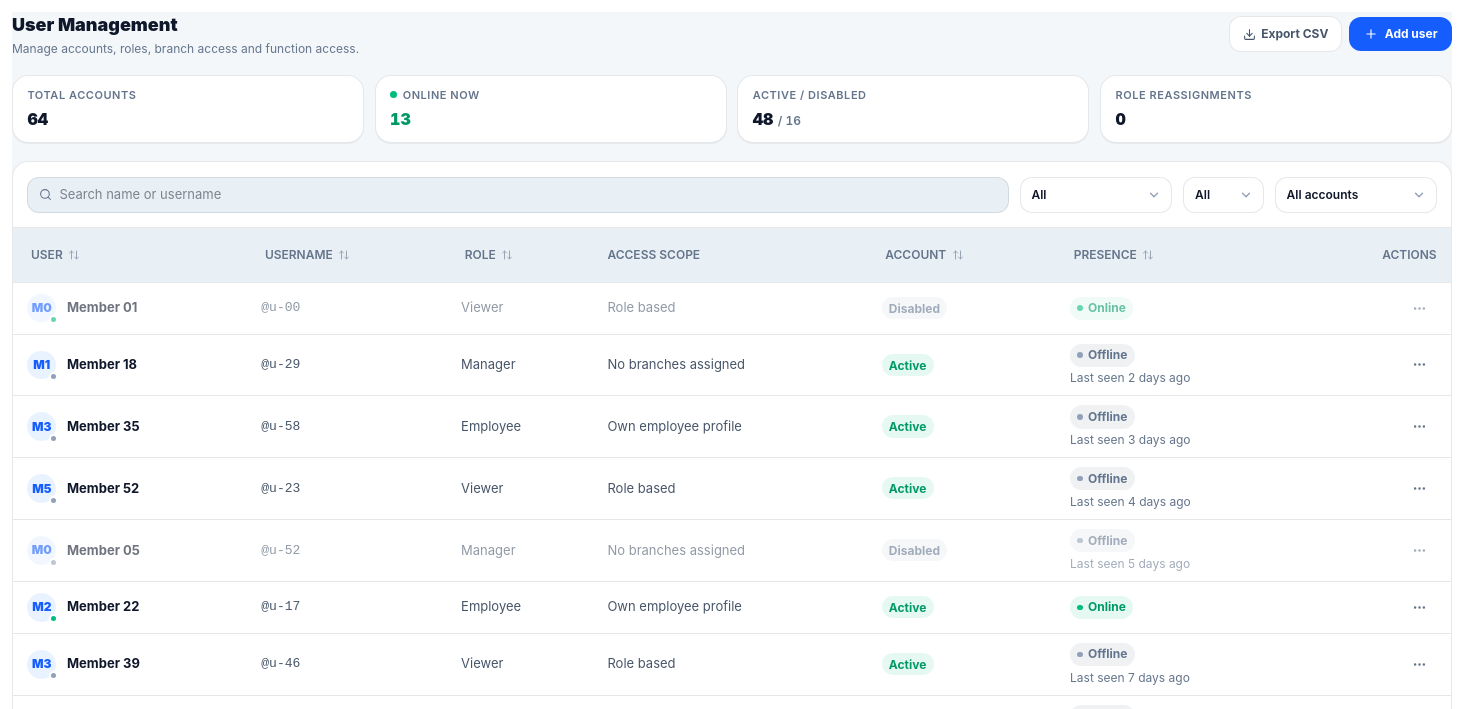
Test: Users sorting › sorts Presence so online users come first when descending
Click the button "Presence": (1114, 255) x1=1070 y1=239 x2=1158 y2=271
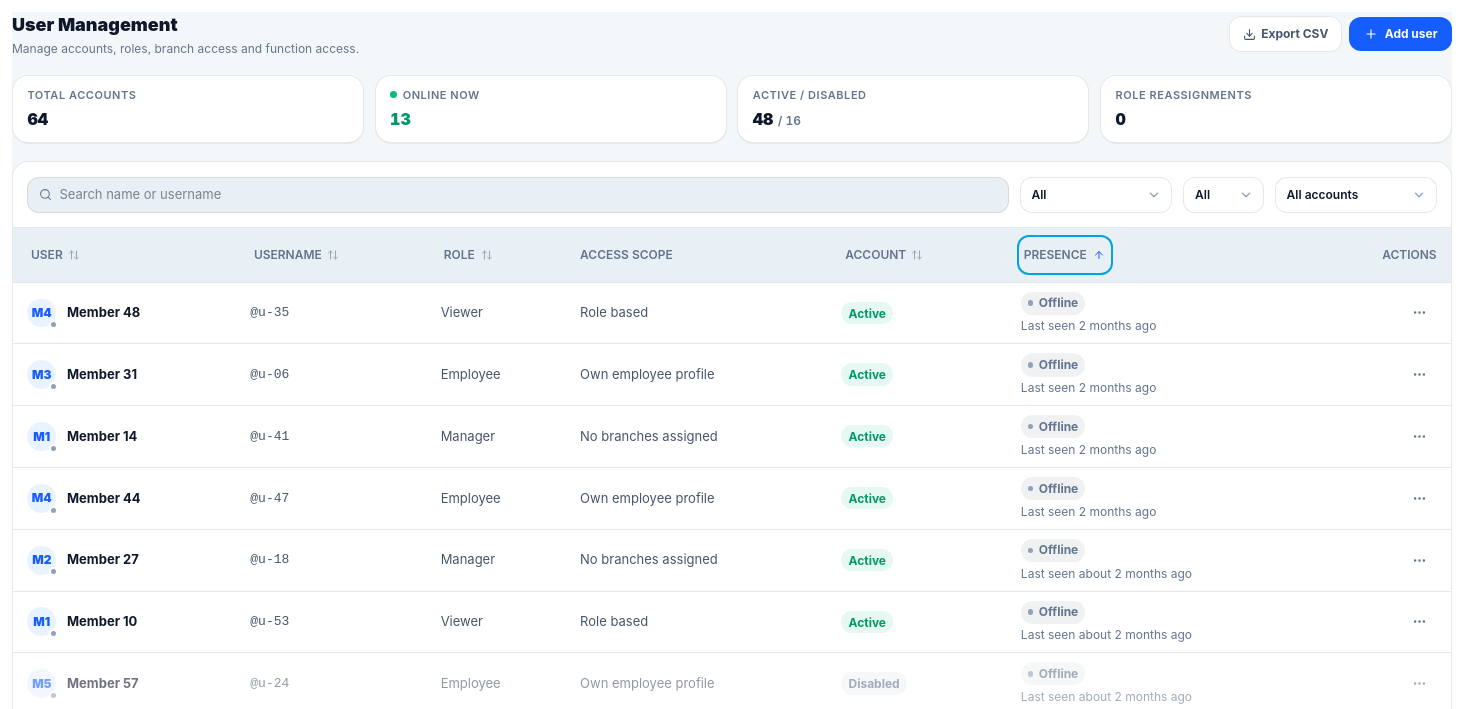
Click the button "Presence": (1065, 255) x1=1021 y1=239 x2=1109 y2=271
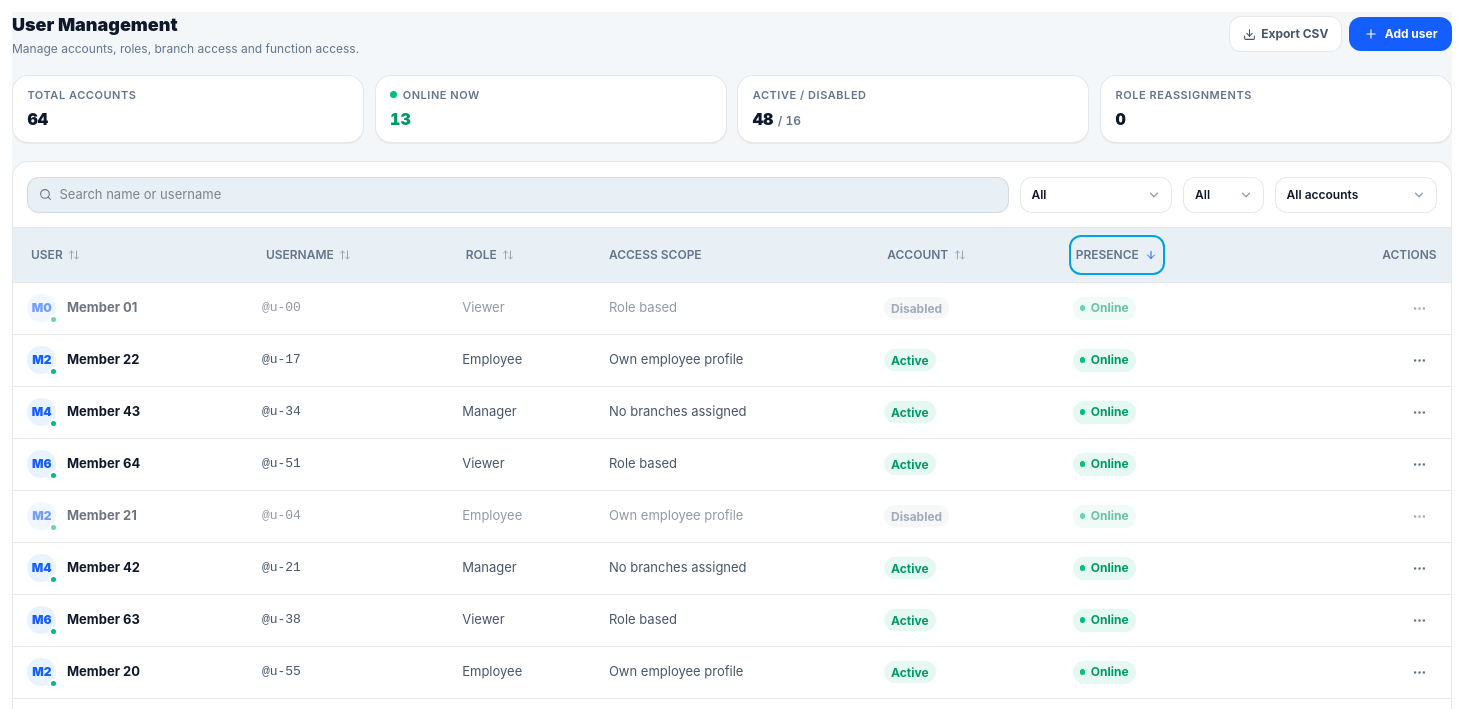
Expected: the row "M0 Member 01 @u-00 Viewer Role based Disabled Online" is shown, x1=13 y1=282 x2=1451 y2=334
